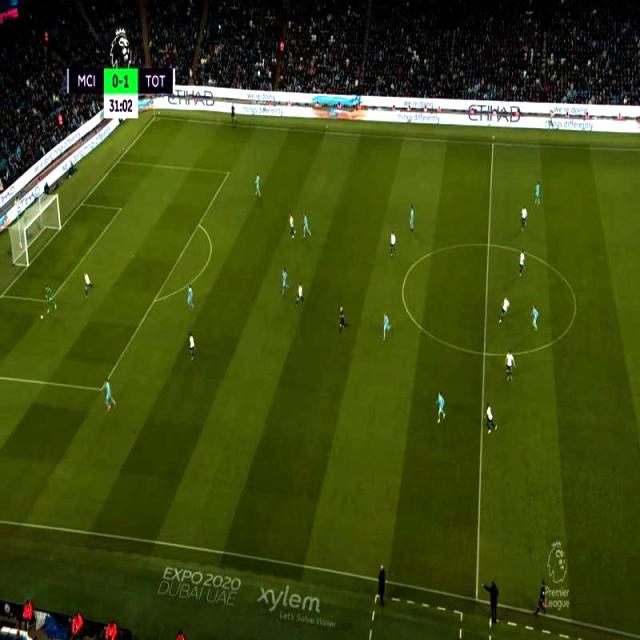bigarea_bottom_inner: (96, 382, 106, 397)
bigarea_top_inner: (112, 156, 125, 169), (115, 201, 127, 214), (222, 167, 235, 178)
bottom_arc_area_intersection: (148, 294, 162, 308)
corner: (148, 111, 162, 124)
halfcircle_bottom: (478, 348, 490, 360)
halfcircle_top: (484, 239, 496, 251)
midline_bottom_intersection: (469, 590, 486, 610)
midline_top_intersection: (489, 138, 497, 150)
smallarea_bottom_inner: (44, 295, 53, 309)
smallarea_bottom_outter: (0, 290, 5, 301)
smallarea_top_outter: (77, 199, 86, 210)
top_arc_area_intersection: (194, 218, 206, 232)
